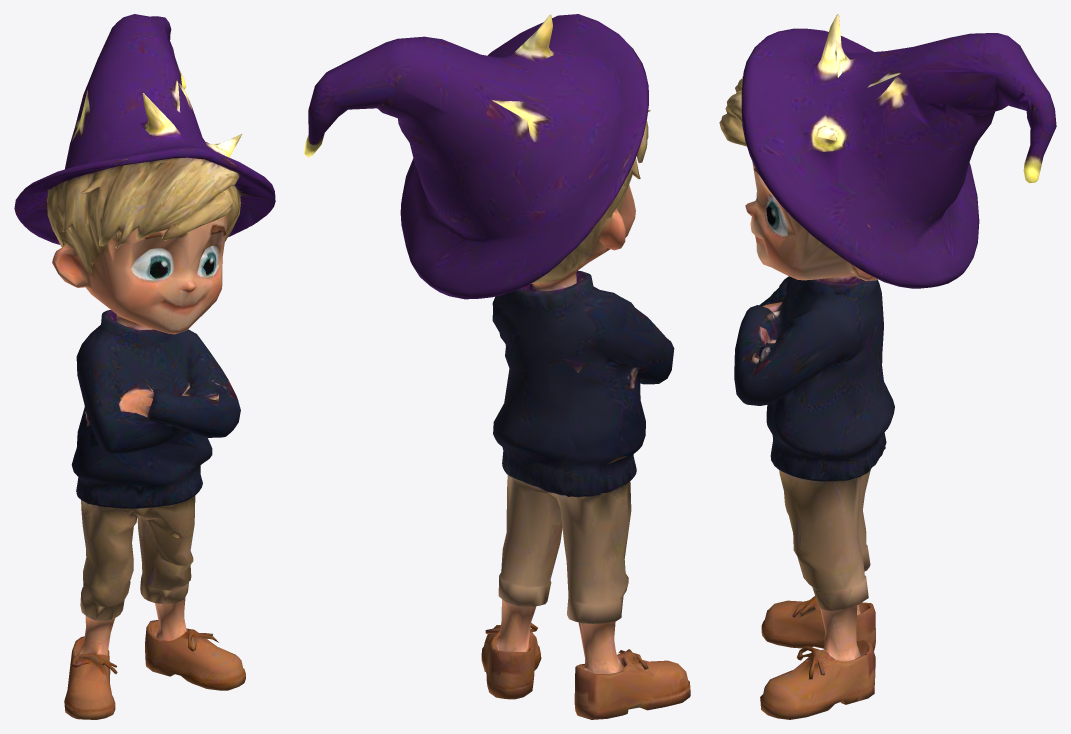
File: boy.glb
3 views of the same model, side by side, from view 1: azimuth 30°, elevation 25°; view 2: azimuth 150°, elevation 25°; view 3: azimuth 270°, elevation 25° (orthographic). The views are drawn at different scales.
Parts seen in each view (by area): view 1: Mesh_0; view 2: Mesh_0; view 3: Mesh_0.
Boxes of the visible parts, x1,y1,x2,y2 form: Mesh_0: (14,14,275,719); Mesh_0: (304,14,690,719); Mesh_0: (719,14,1056,719).
Size of the model in its own units: 0.3916 by 1 by 0.4522.
Materials: 1 (1 with a texture image).
